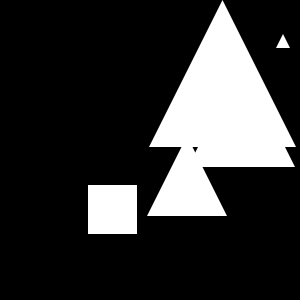circle: (88, 185, 137, 234)
triangle: (149, 0, 296, 147), (188, 60, 295, 167), (147, 136, 227, 216), (276, 34, 290, 48)
